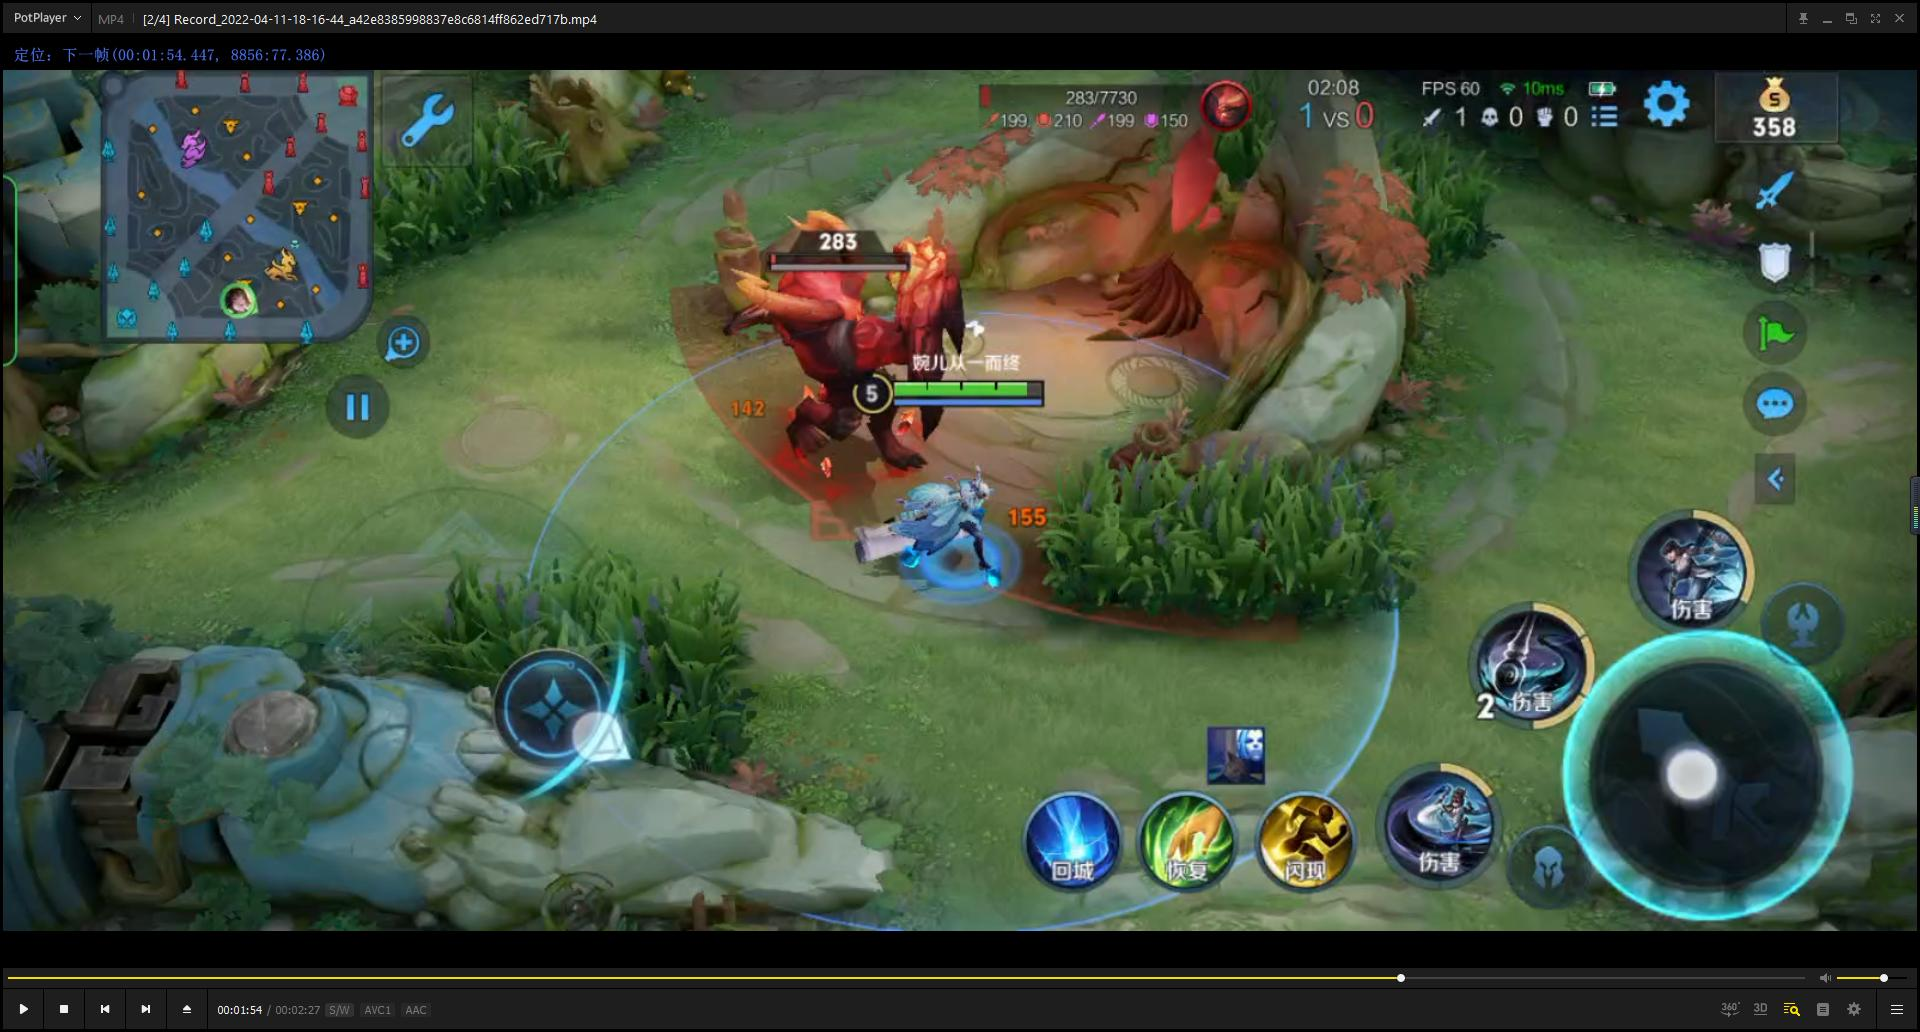Buff: (690, 205, 987, 485)
Hero: (841, 449, 1031, 594)
